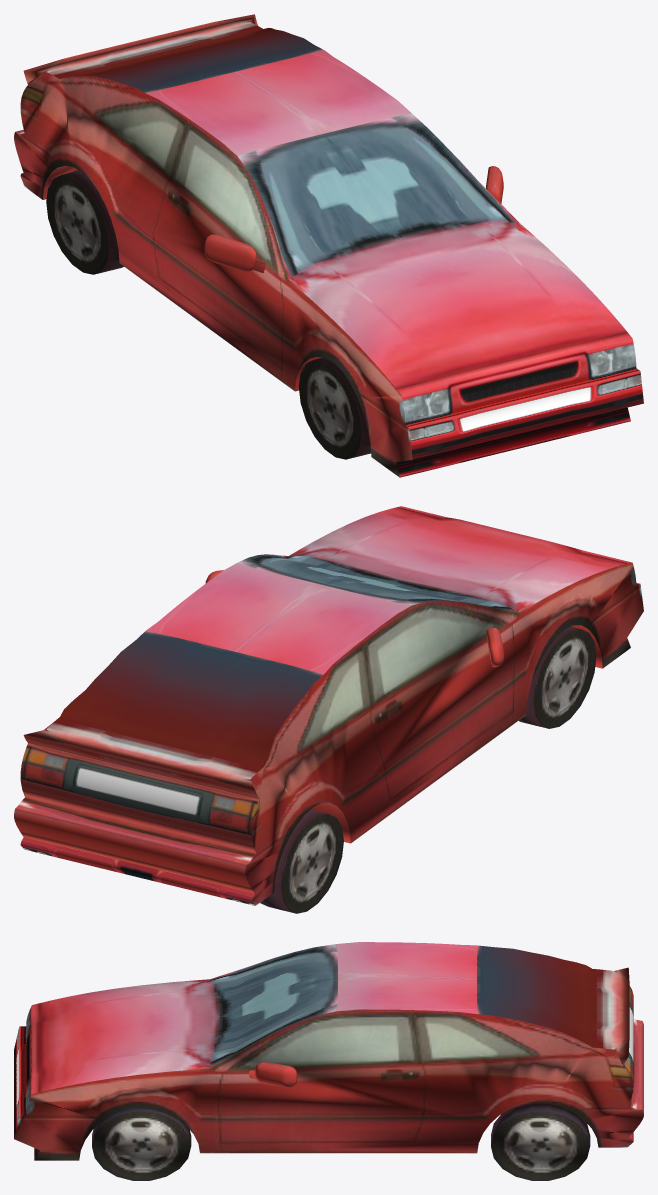
Rendered from rohezal-coupe.glb.
The picture shows the model from 3 angles, top to bottom: view 1: azimuth 30°, elevation 25°; view 2: azimuth 150°, elevation 25°; view 3: azimuth 270°, elevation 25°; orthographic projection. The views are drawn at different scales.
Visible parts, largest first — view 1: car2; view 2: car2; view 3: car2.
Boxes of the visible parts, <box> form: car2: <box>14,14,643,477</box>; car2: <box>14,506,643,913</box>; car2: <box>14,942,643,1180</box>.
Bounding box in the file's own units: 1.81 × 1.18 × 4.22.
1 material, 1 textured.
